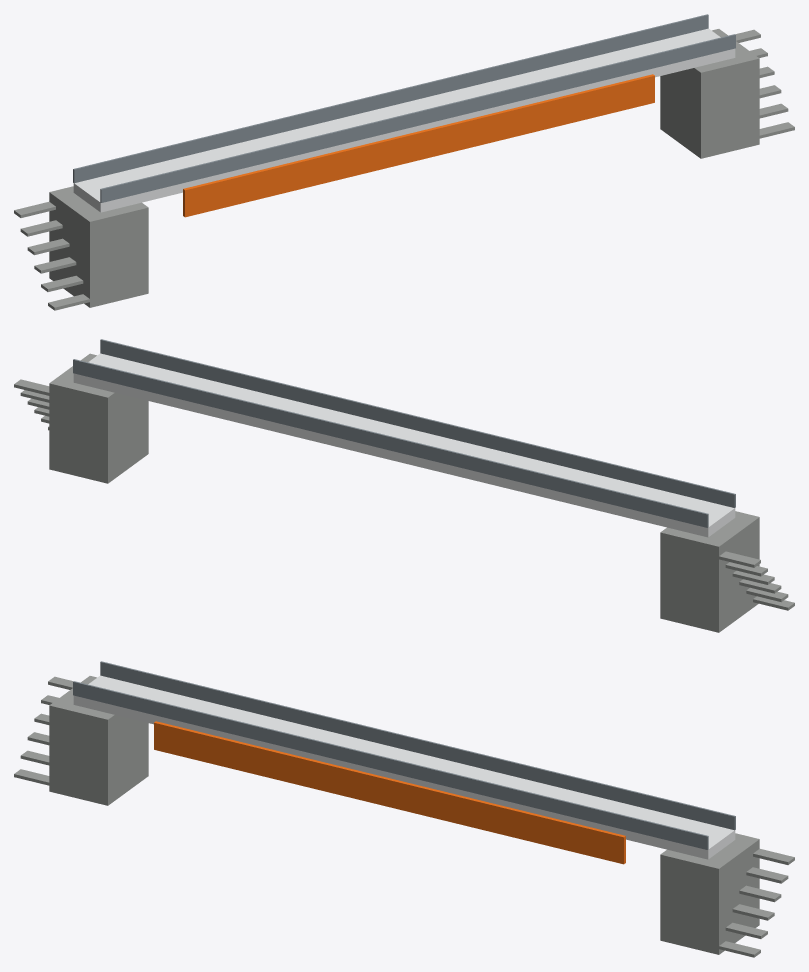
File: footbridge.glb
The picture shows the model from 3 angles, top to bottom: view 1: azimuth 30°, elevation 25°; view 2: azimuth 150°, elevation 25°; view 3: azimuth 330°, elevation 25°; orthographic projection.
Visible parts, largest first — view 1: Cube.001; view 2: Cube.001; view 3: Cube.001.
Boxes of the visible parts, left/top/right/bottom form: Cube.001: left=14, top=14, right=794, bottom=310; Cube.001: left=14, top=339, right=794, bottom=632; Cube.001: left=14, top=661, right=794, bottom=957.
Size of the model in its own units: 63 by 8.9 by 6.
